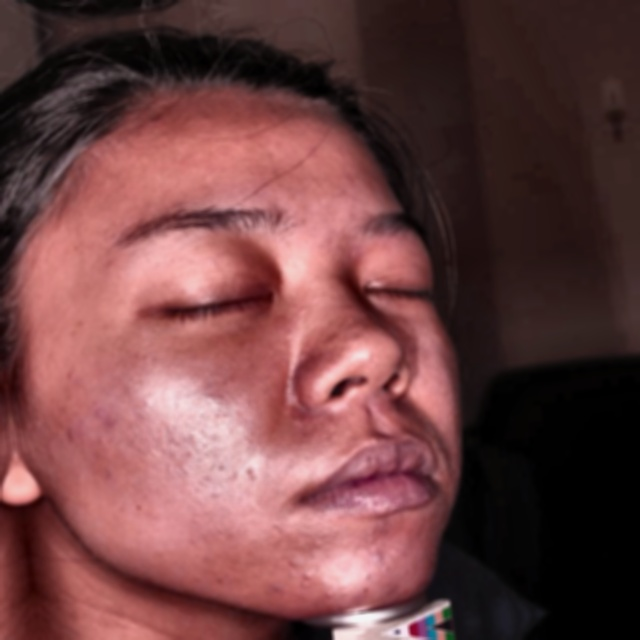comedone: (86, 401, 123, 434), (258, 575, 288, 603)
